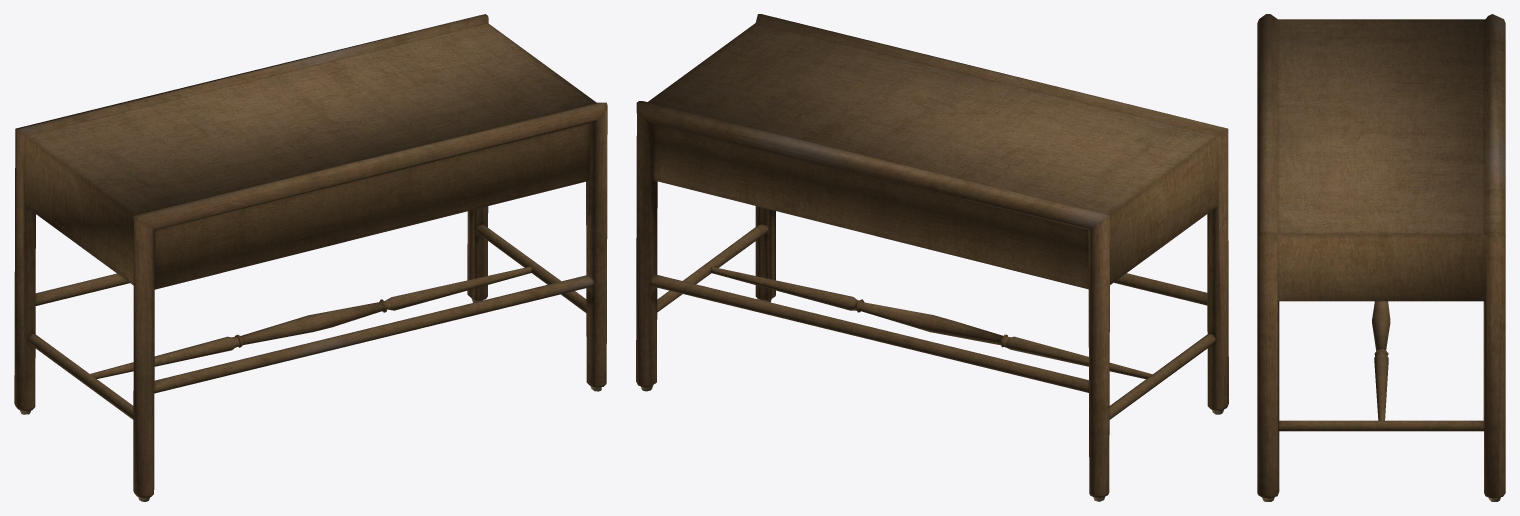
File: table.glb
3 renders of one model, left to right at view 1: azimuth 30°, elevation 25°; view 2: azimuth 150°, elevation 25°; view 3: azimuth 270°, elevation 25°, orthographic. The views are drawn at different scales.
Parts seen in each view (by area): view 1: small_wooden_table_01; view 2: small_wooden_table_01; view 3: small_wooden_table_01.
Boxes of the visible parts, left/top/right/bottom form: small_wooden_table_01: left=14, top=14, right=607, bottom=501; small_wooden_table_01: left=636, top=14, right=1228, bottom=501; small_wooden_table_01: left=1257, top=14, right=1505, bottom=501.
Bounding box in the file's own units: 0.9162 × 0.5331 × 0.4399.
1 material, 1 textured.
